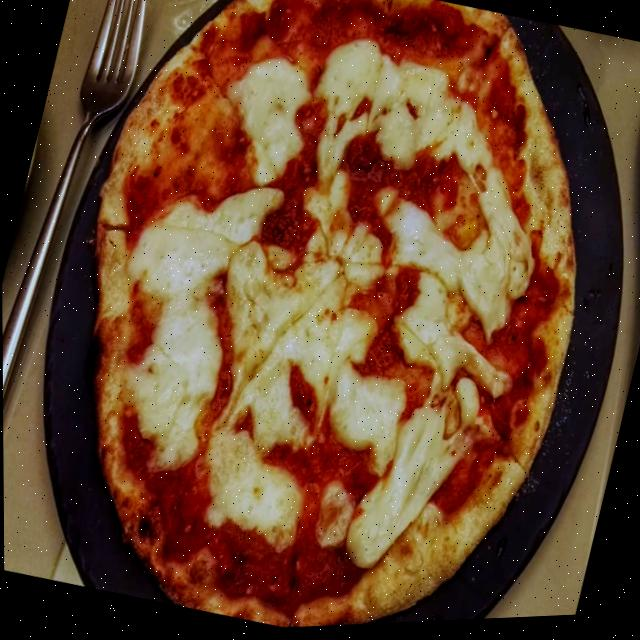pizza: (5, 0, 640, 640)
